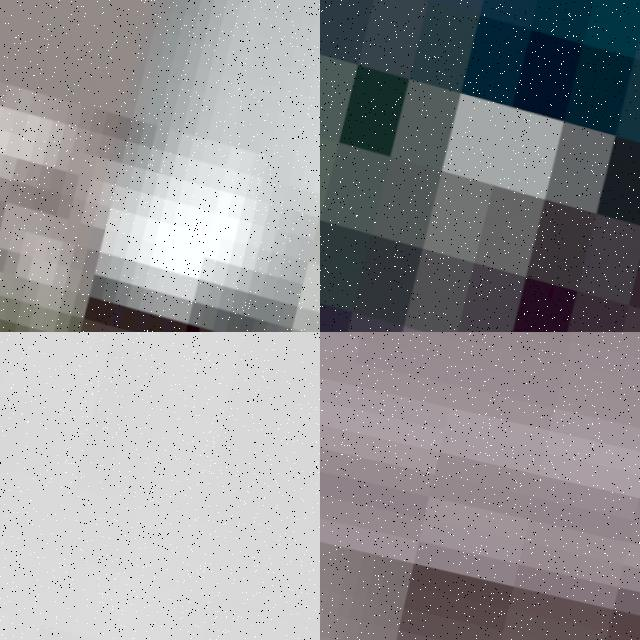0: (0, 0, 320, 332)
drone: (320, 0, 640, 332), (0, 332, 320, 640)
